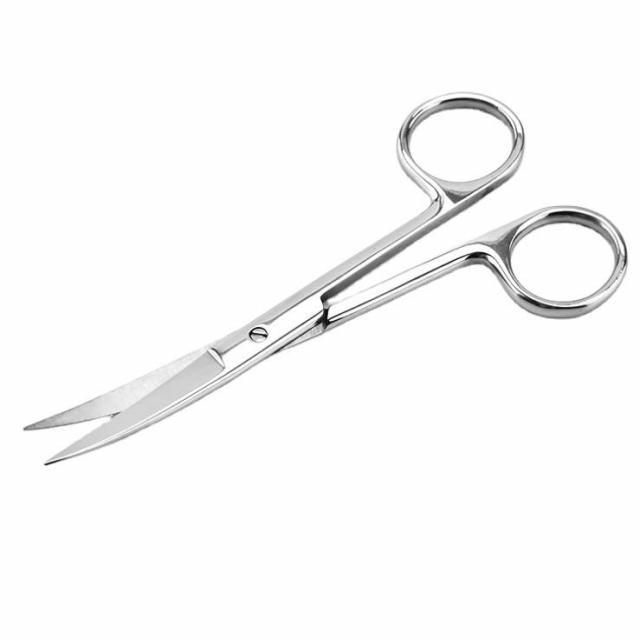scissors: (21, 88, 630, 465)
